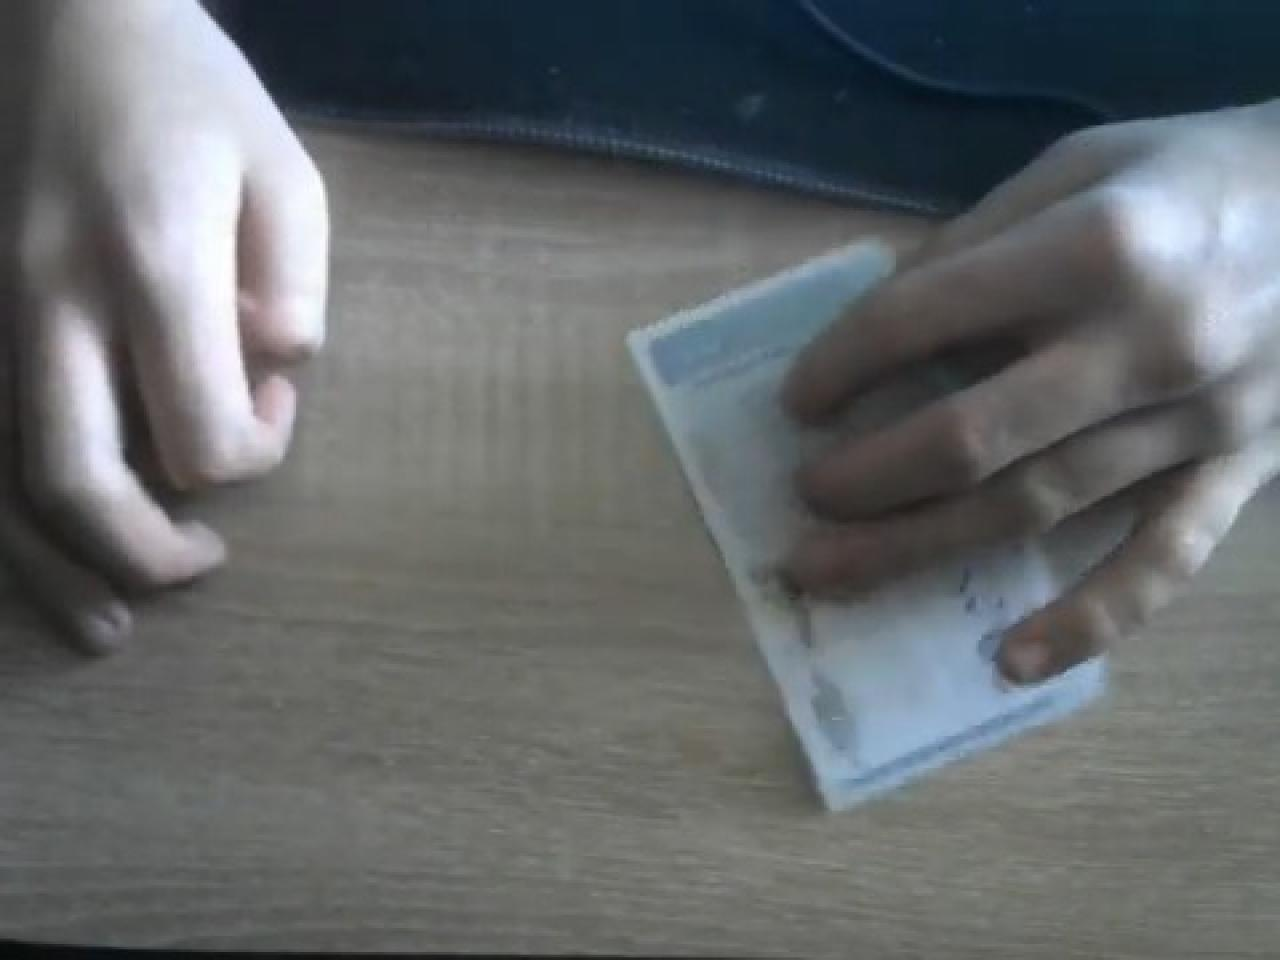20leva: (624, 216, 1280, 816)
